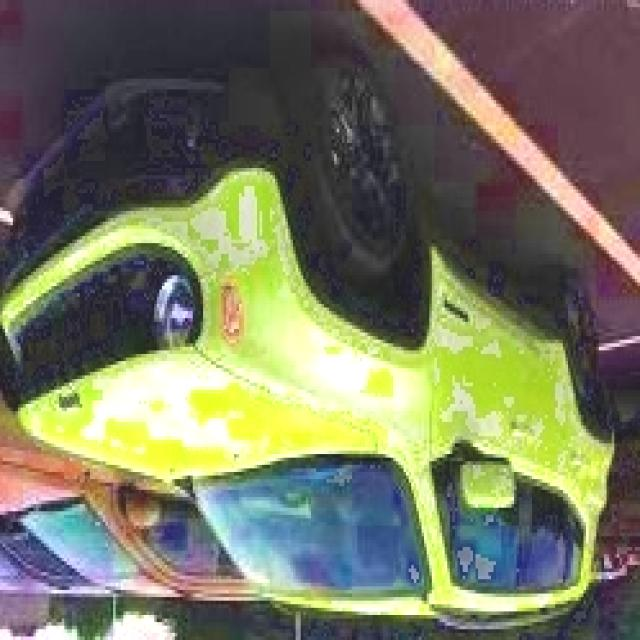green: (0, 124, 607, 620)
